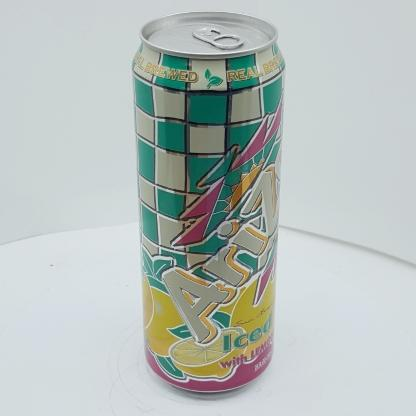-------------------680ML: (132, 10, 285, 392)
